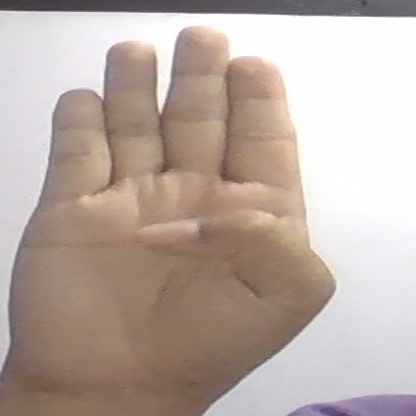B: (0, 27, 335, 392)
